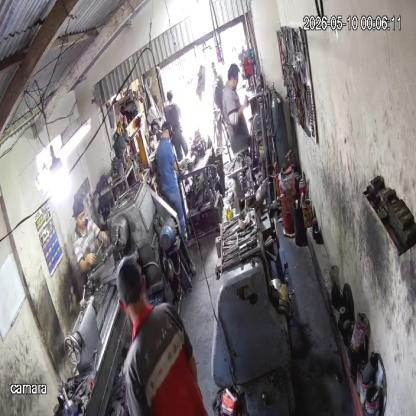sin_lentes: (76, 213, 86, 221)
